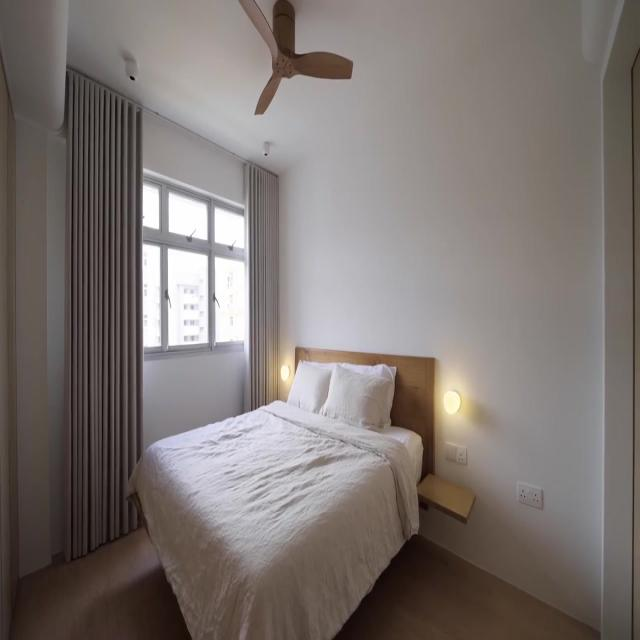obstacle: (125, 347, 435, 638), (416, 472, 476, 524)
